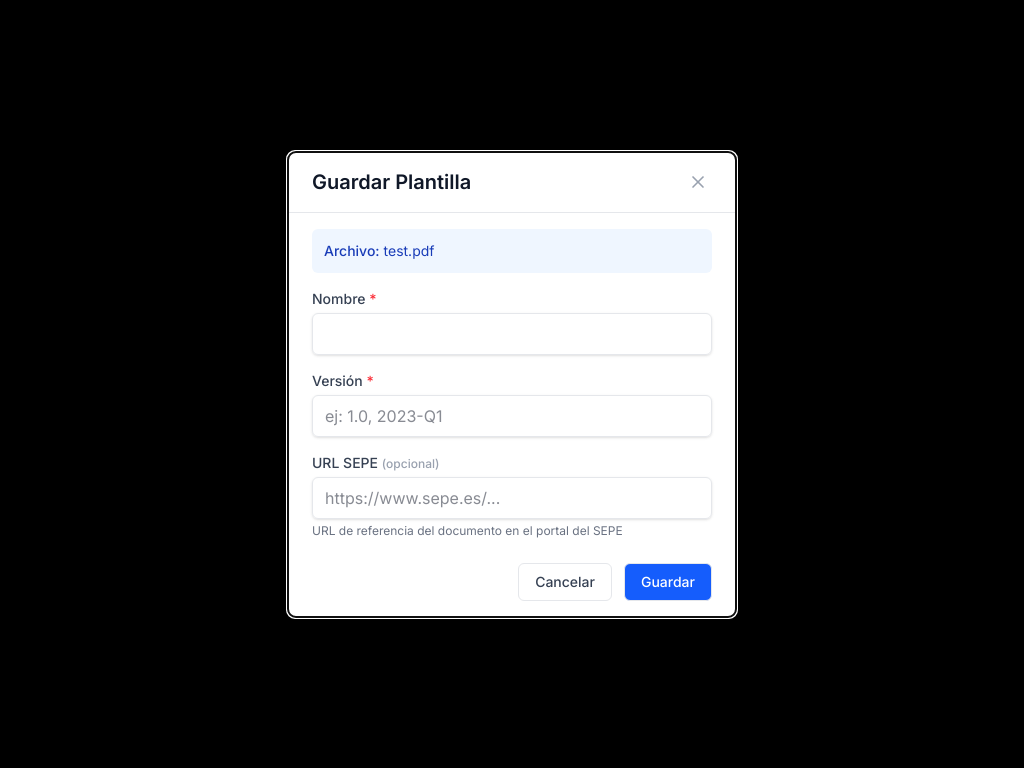
it: TemplateSaveModal › Form Validation › should show error for invalid URL format
Type "Test Template" into the field labelled "Nombre *".
click(512, 334); type("Test Template")  # box [312,312,712,354]
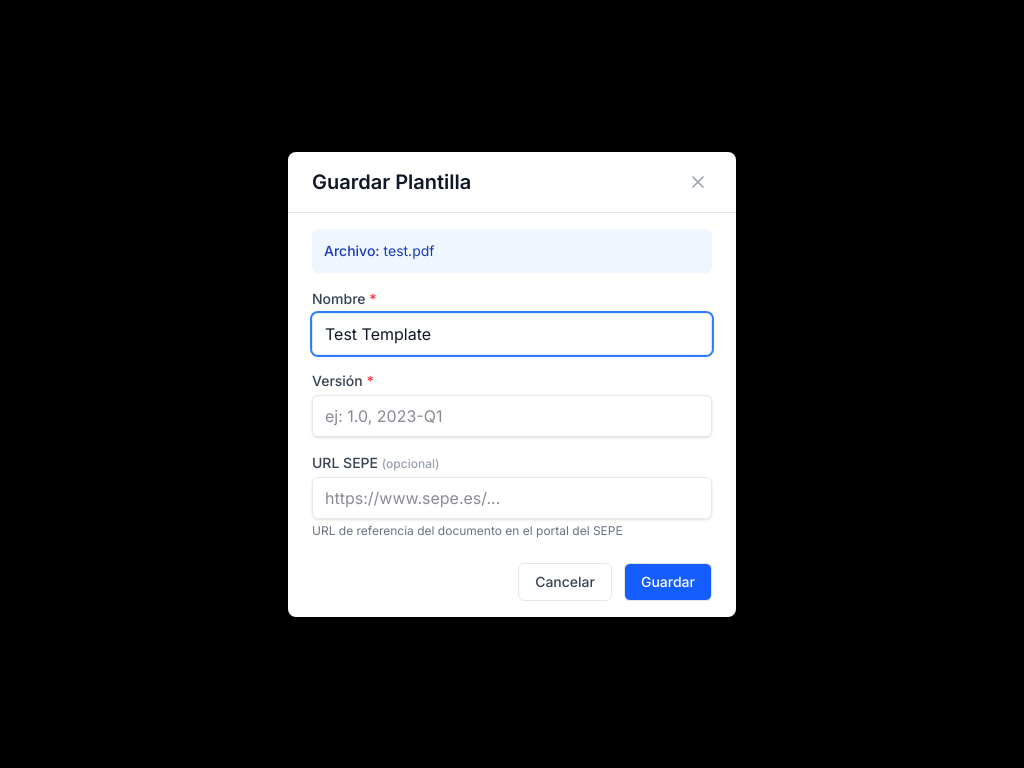
Type "1.0" into the field labelled "Versión *".
click(512, 416); type("1.0")  # box [312,394,712,436]
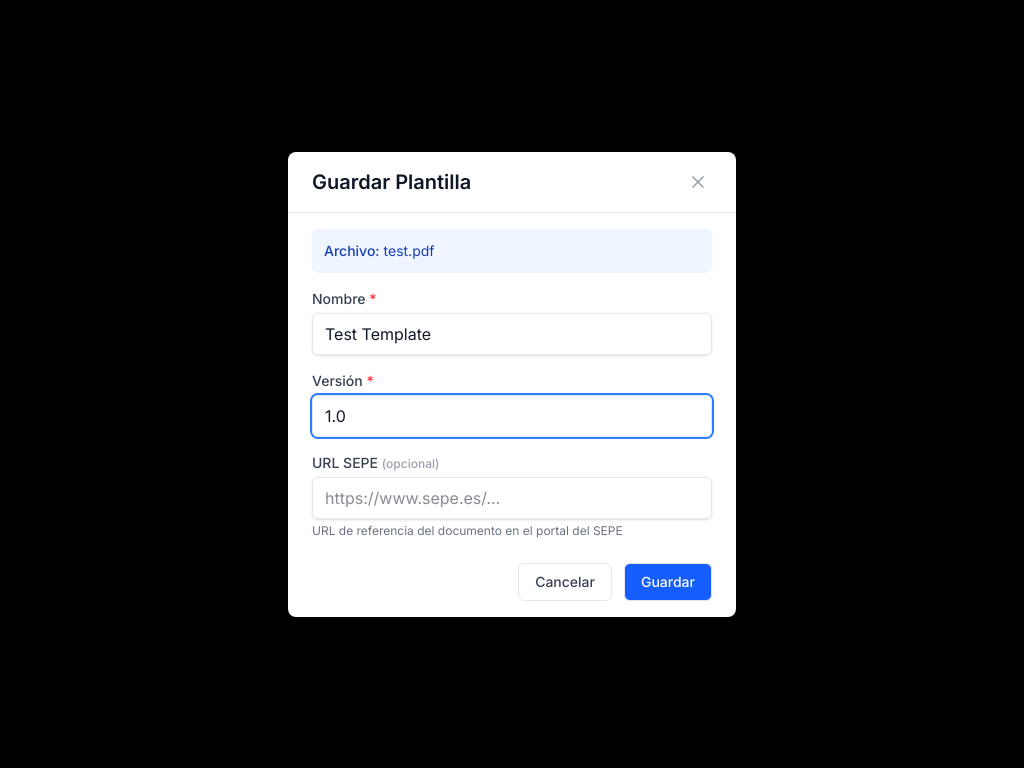
// Use paste to bypass browser's native URL validation
Click the field labelled "URL SEPE (opcional)".
click(512, 498)  # box [312,476,712,518]
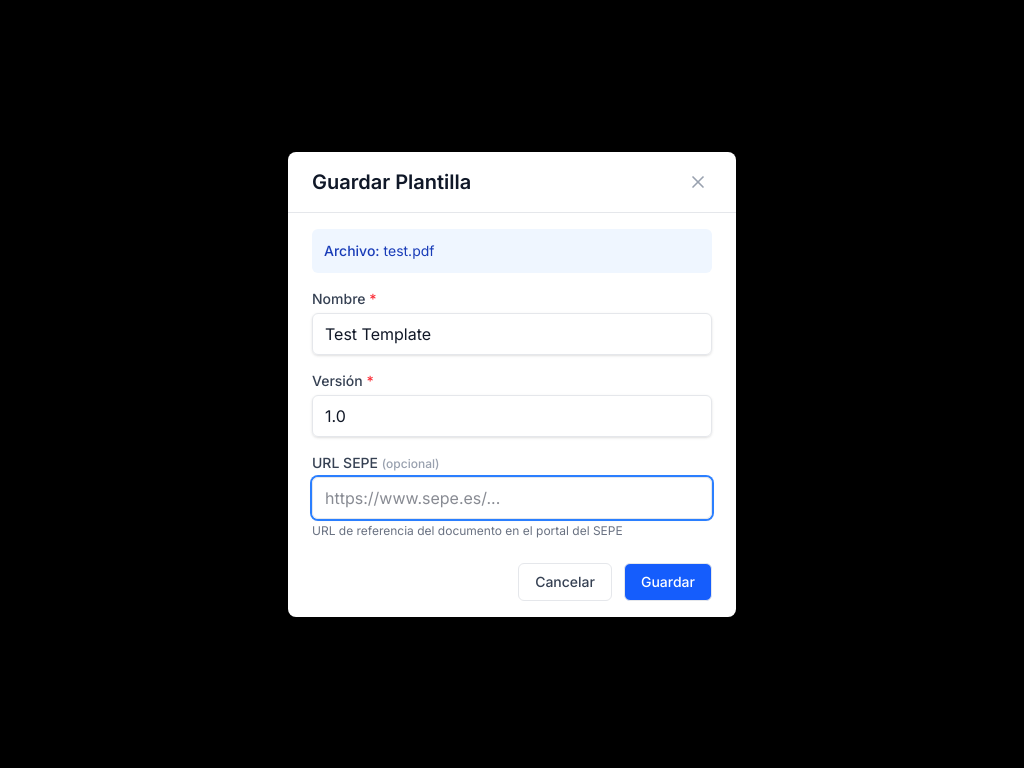
Type keys "not a valid url with spaces"
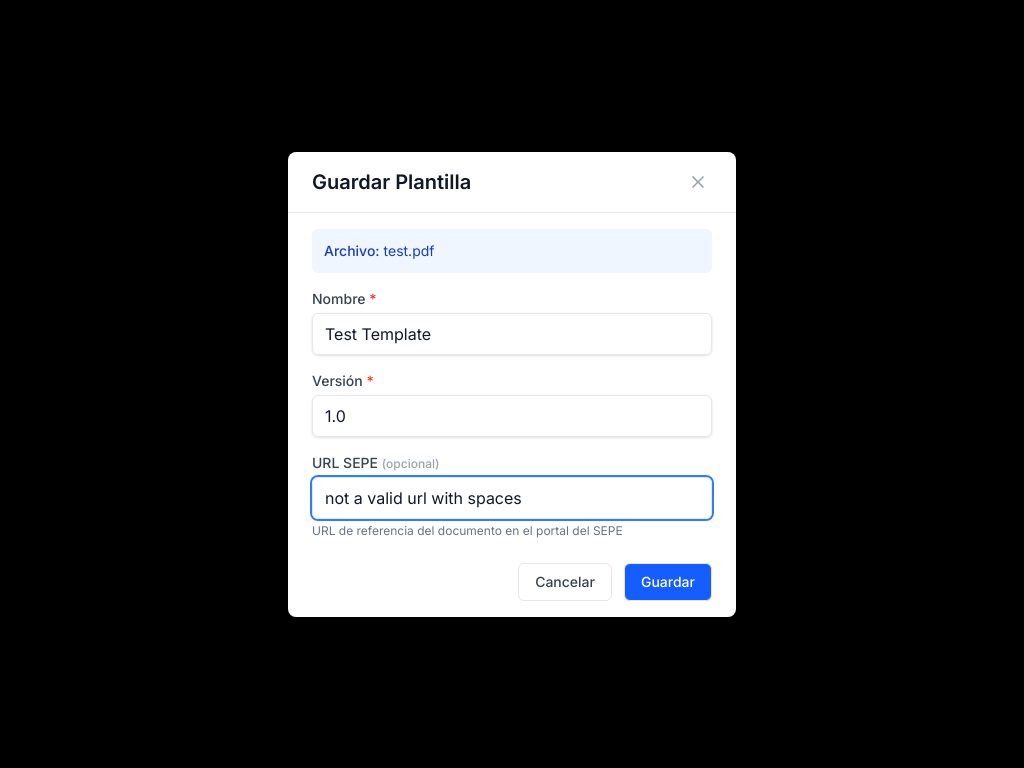
Click the button "Guardar".
click(668, 582)  # box [624,562,712,600]
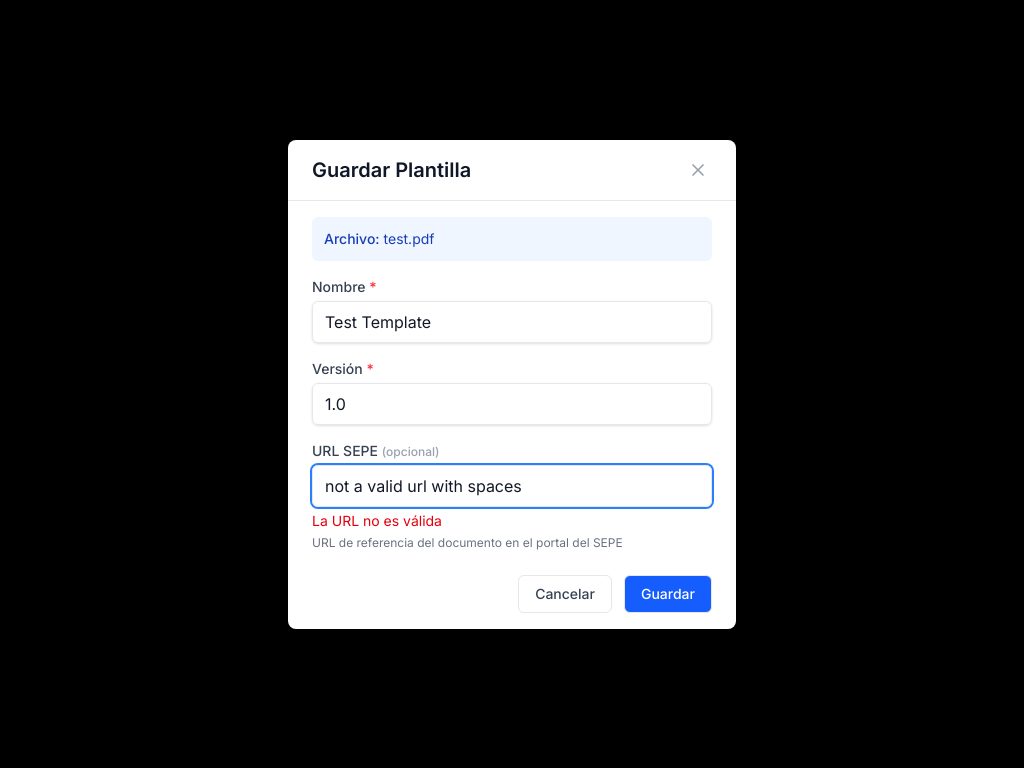
Now the text "La URL no es válida" is shown, box [312,512,442,528]
